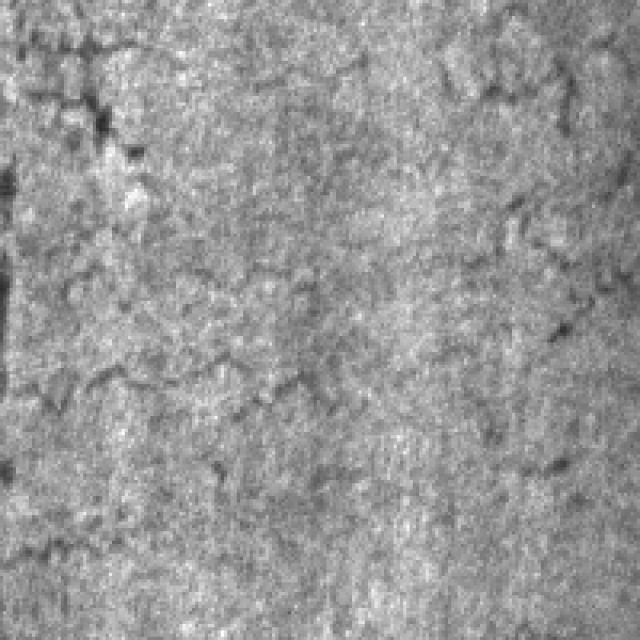crazing: (0, 176, 627, 413), (3, 0, 189, 160), (412, 0, 630, 134)
